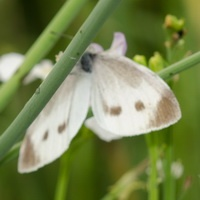insect: (18, 32, 180, 172)
